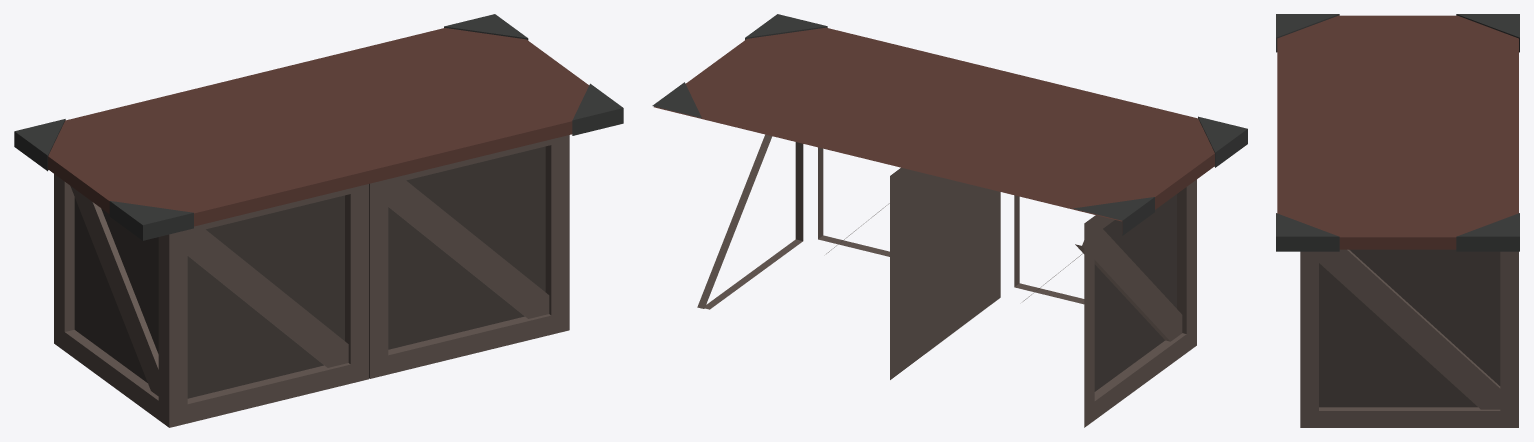
The model's file is CrudeTable.glb.
3 renders of one model, left to right at view 1: azimuth 30°, elevation 25°; view 2: azimuth 150°, elevation 25°; view 3: azimuth 270°, elevation 25°, orthographic. The views are drawn at different scales.
Parts seen in each view (by area): view 1: crudeTable; view 2: crudeTable; view 3: crudeTable.
Part boxes in pixels (x1=…): crudeTable: x1=14, y1=14, x2=623, y2=427; crudeTable: x1=652, y1=14, x2=1247, y2=427; crudeTable: x1=1276, y1=14, x2=1519, y2=427.
Size of the model in its own units: 1.81 by 0.7976 by 0.8376.
1 material, 1 textured.
